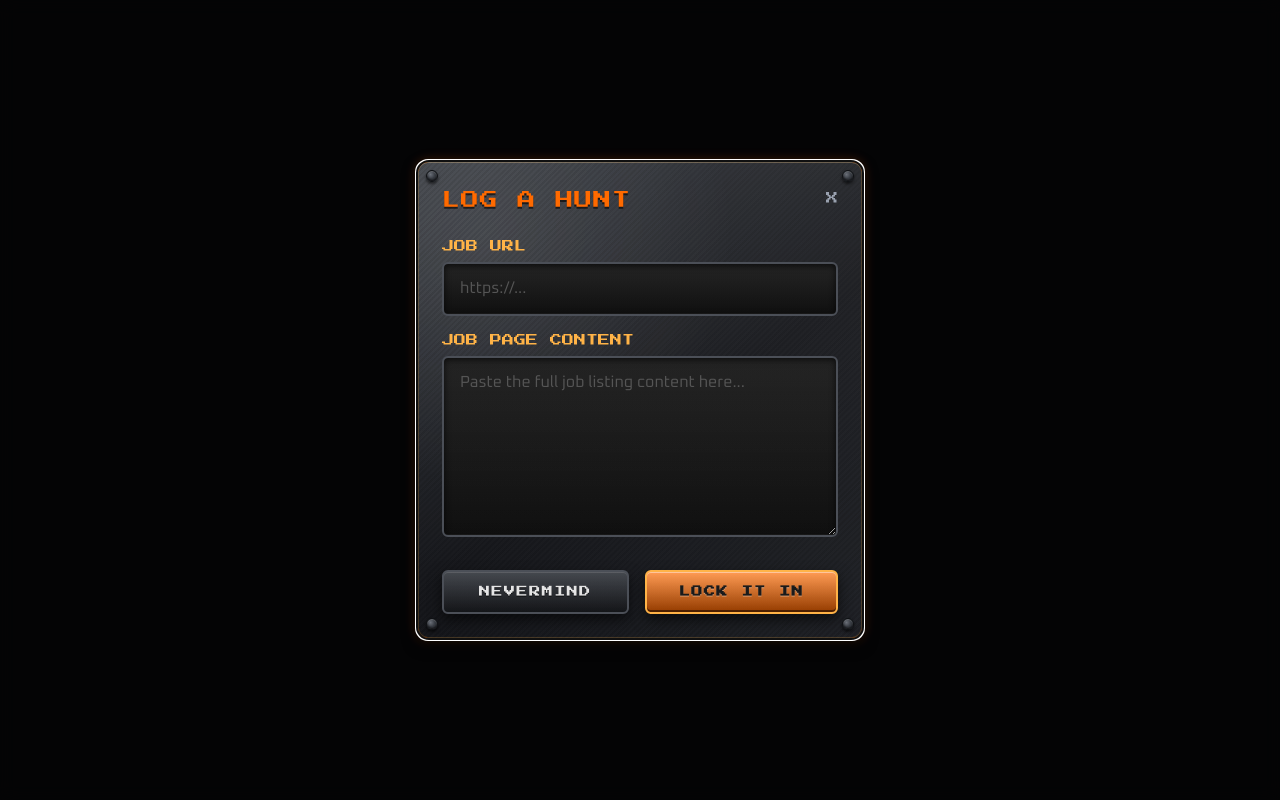
QuickCaptureModal › shows validation errors when required fields are missing
The image size is (1280, 800).
Click the button "LOCK IT IN" at (741, 592), box [645,570,838,614]
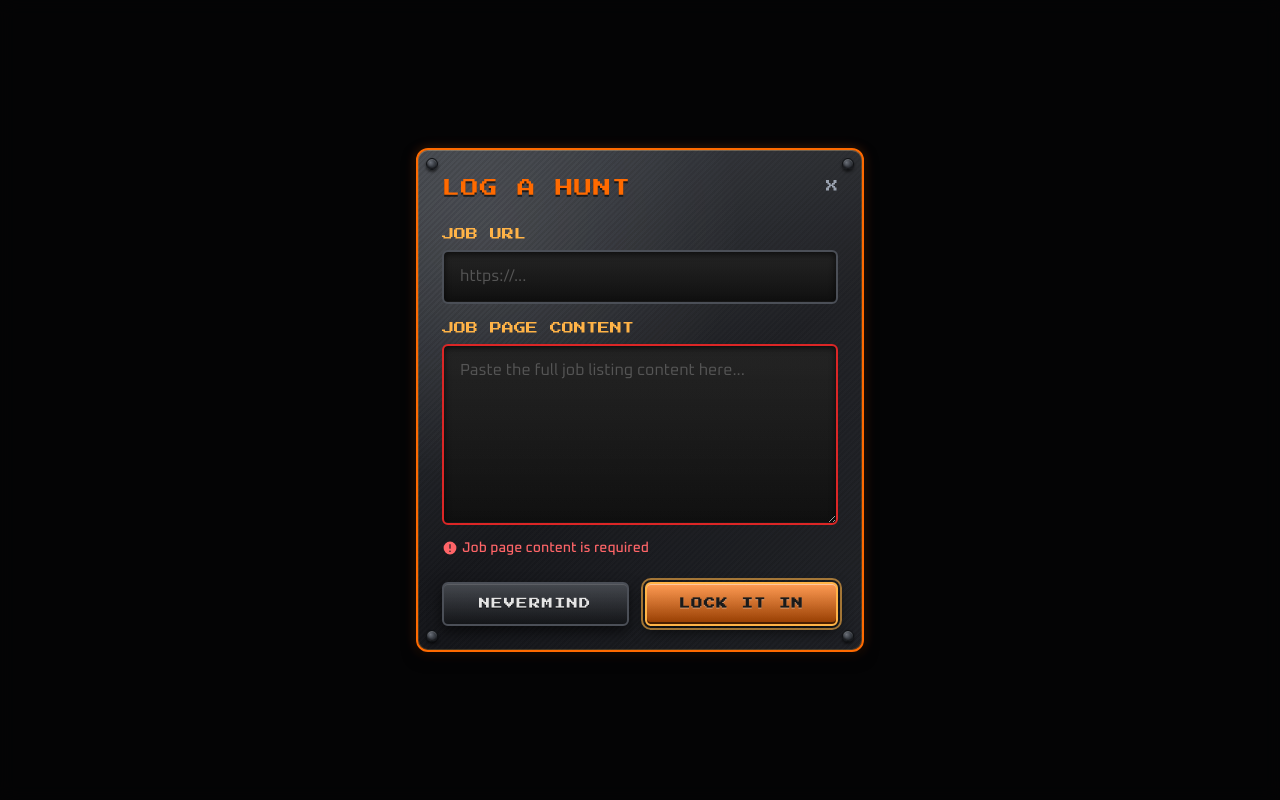
Check: the text "Job page content is required" is shown, box [462,538,649,558]
